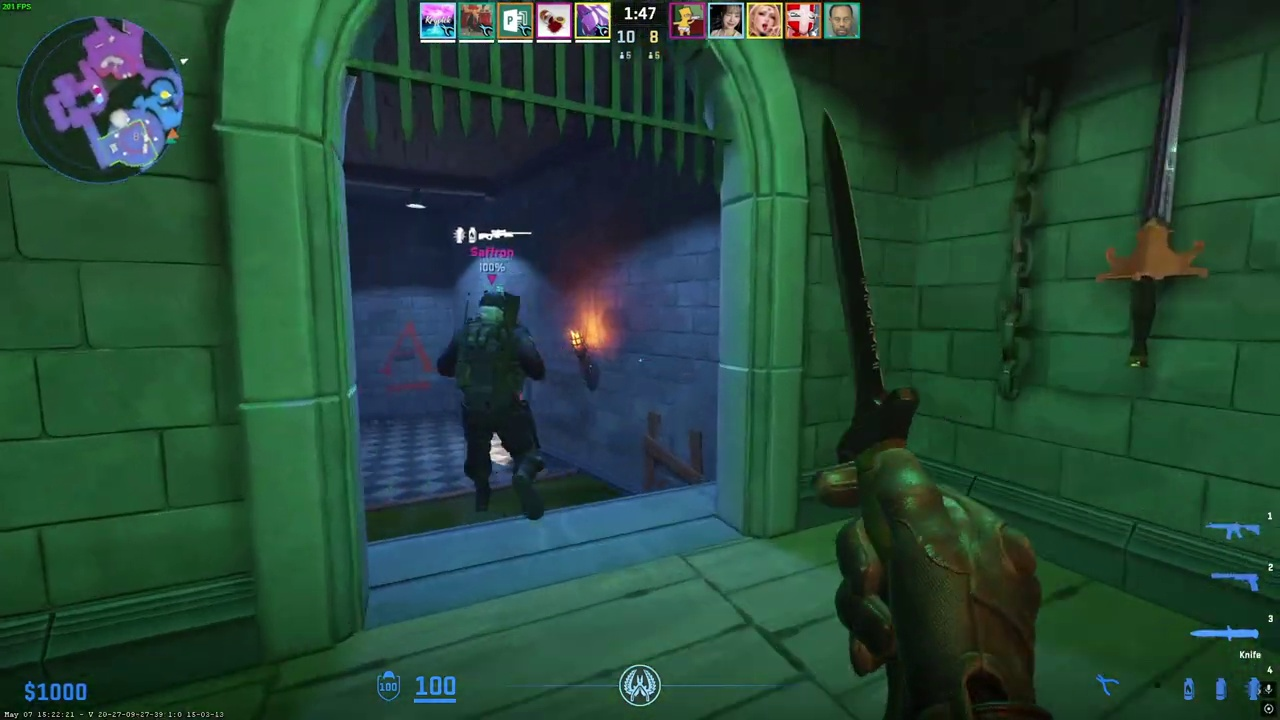CT: (452, 290, 546, 520)
